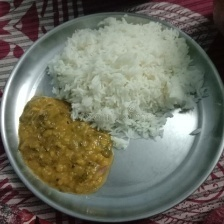dal: (14, 95, 115, 196)
